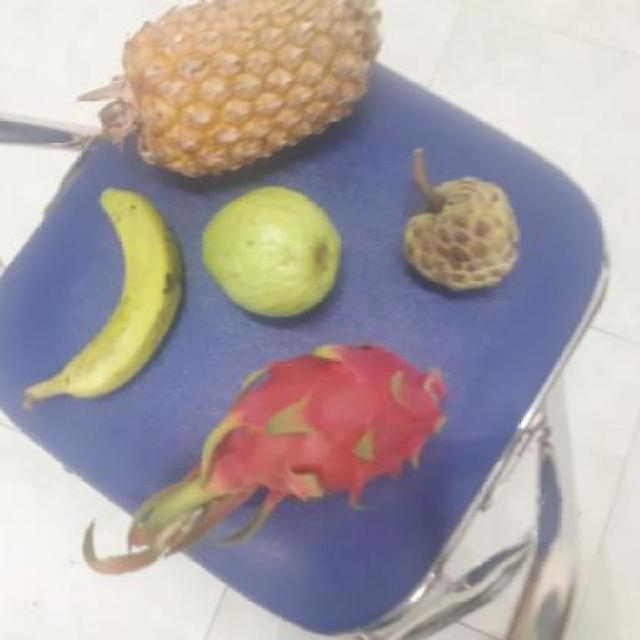banana: (51, 187, 188, 404)
dragon fruit: (204, 340, 458, 512)
guava: (202, 188, 351, 318)
pineapple: (125, 0, 380, 171)
sugar apple: (404, 174, 524, 292)
